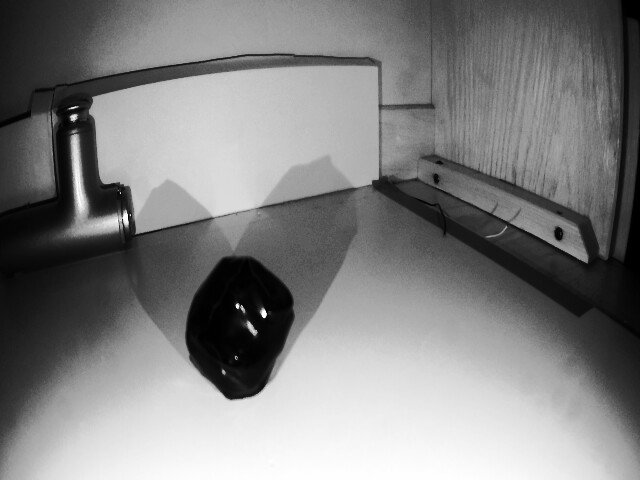black: (180, 254, 298, 417)
